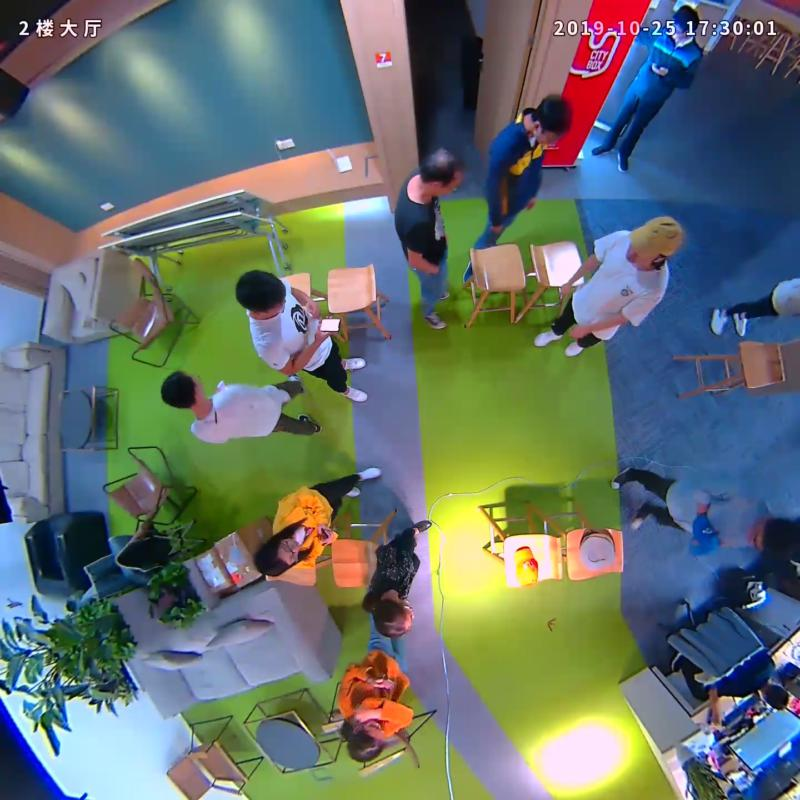head: (625, 213, 686, 269), (235, 268, 287, 318), (419, 145, 464, 198), (531, 94, 572, 145), (747, 517, 797, 558), (254, 538, 301, 578), (370, 596, 415, 637), (161, 368, 205, 409), (347, 720, 386, 762), (669, 3, 699, 42)
